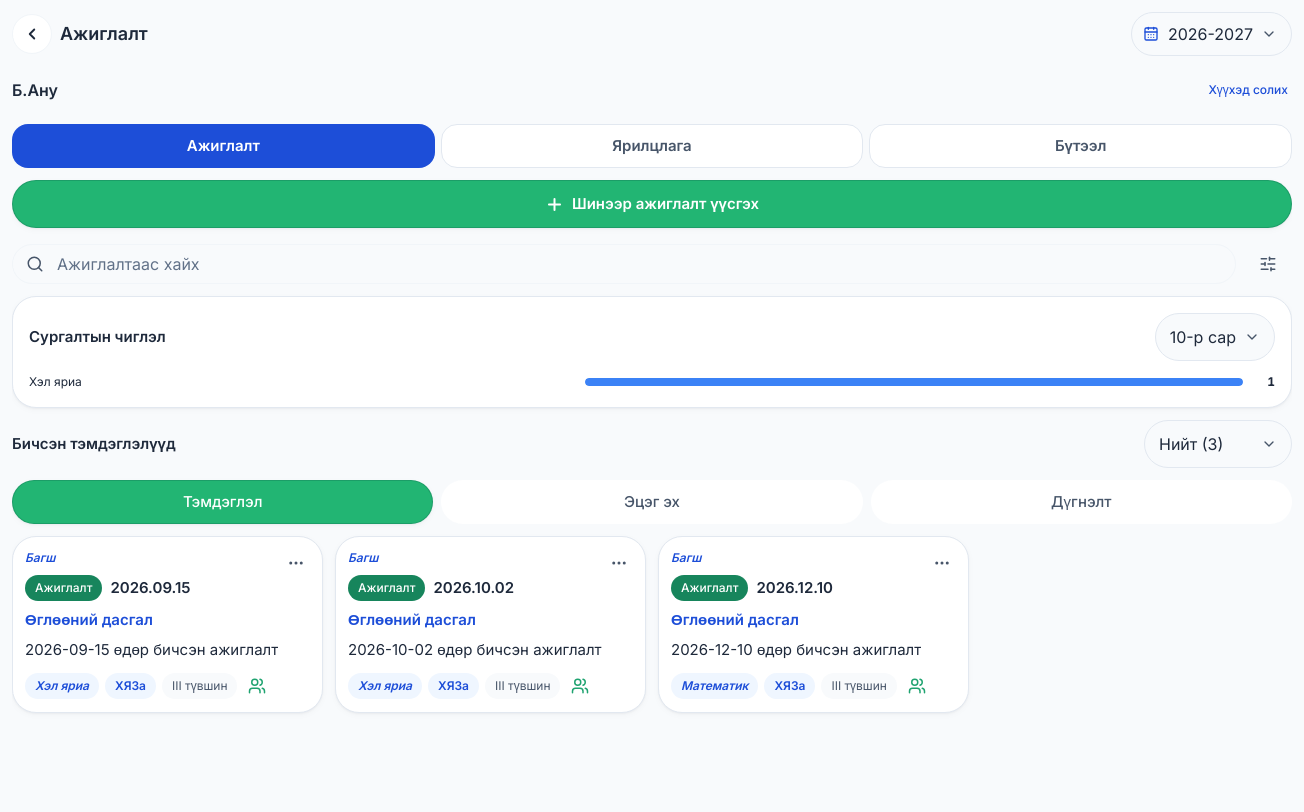
Scenario: the record hub › shows the learning domains as a compact chart for the selected month
Expected: the search field labelled "Ажиглалтаас хайх" is shown, [12,244,1236,284]
Expected: the picture named "Хэл яриа: 1 тэмдэглэл" is shown, [585,378,1243,386]
Click the dropdown named "Сургалтын чиглэлийн сар". click: click(1215, 337)
box: [1155,313,1275,361]
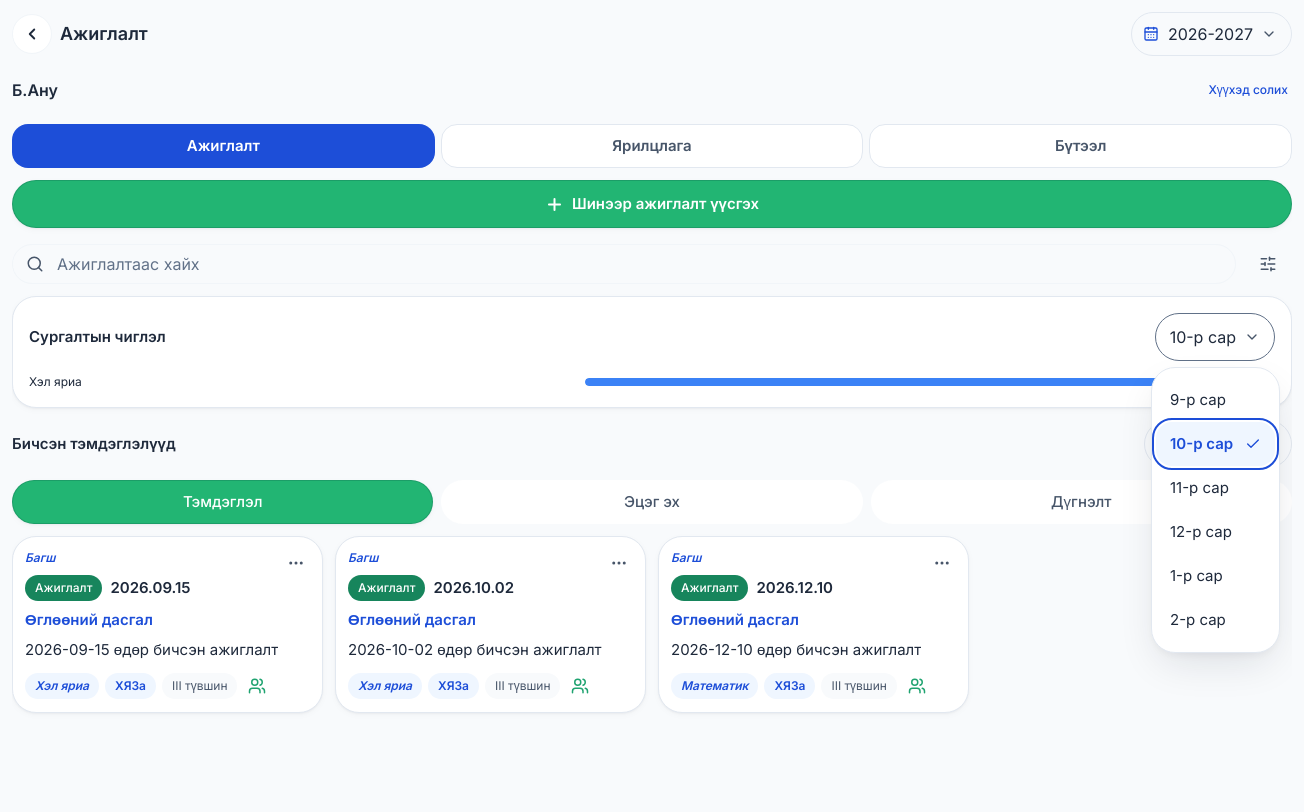
Click the option "12-р сар". click: click(1201, 531)
box: [1170,522,1232,541]
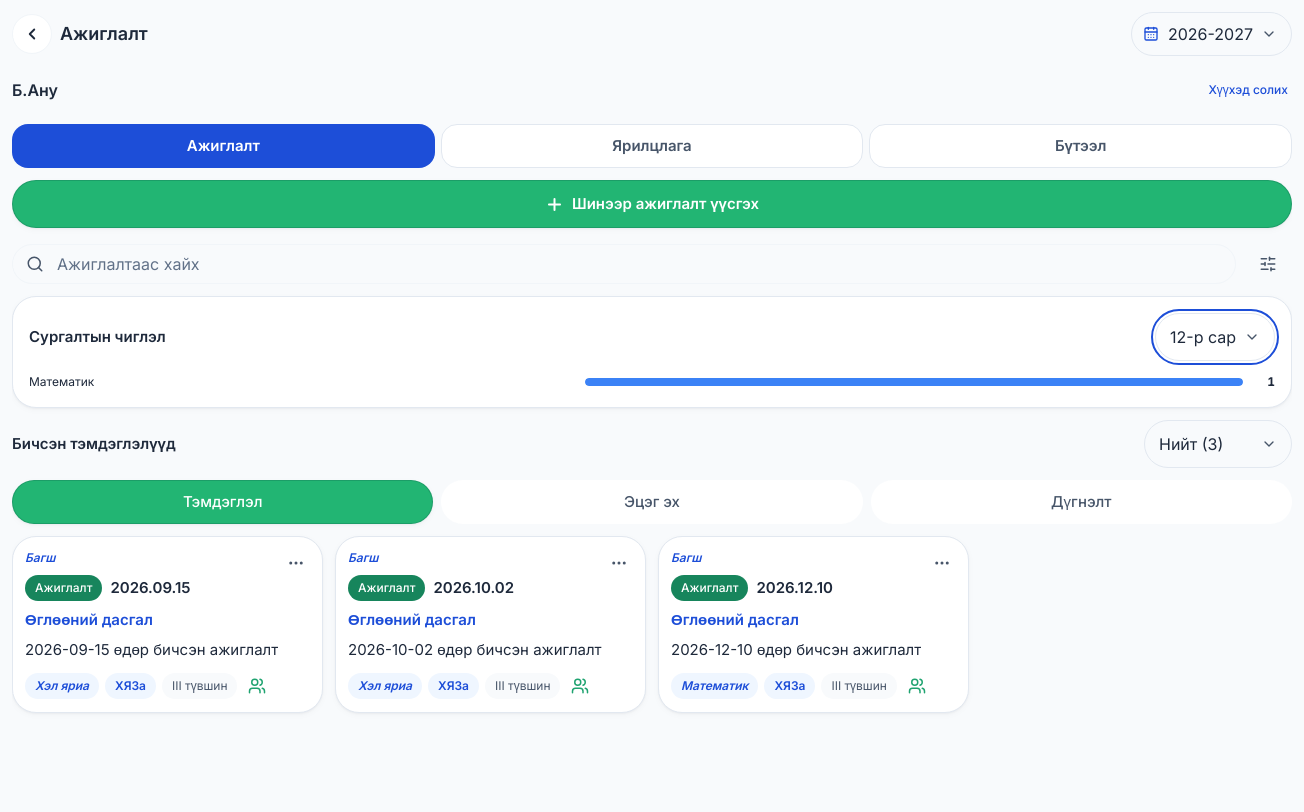
Expected: the picture named "Математик: 1 тэмдэглэл" is shown, [585,378,1243,386]
